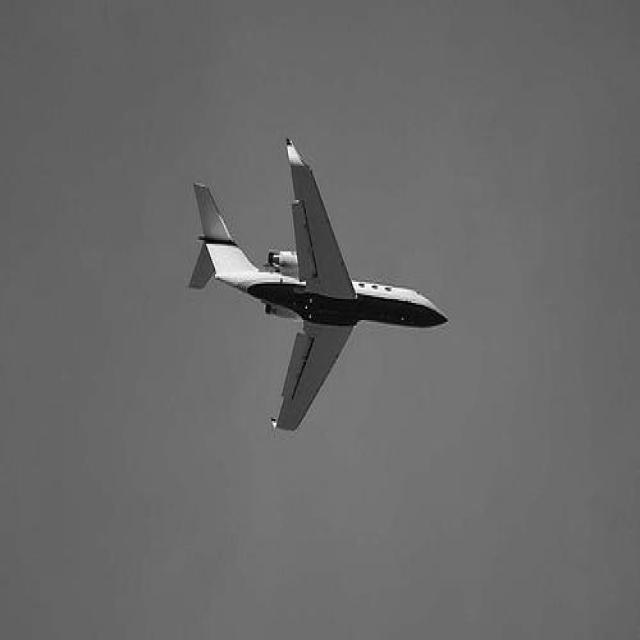aeroplane: (188, 133, 448, 434)
